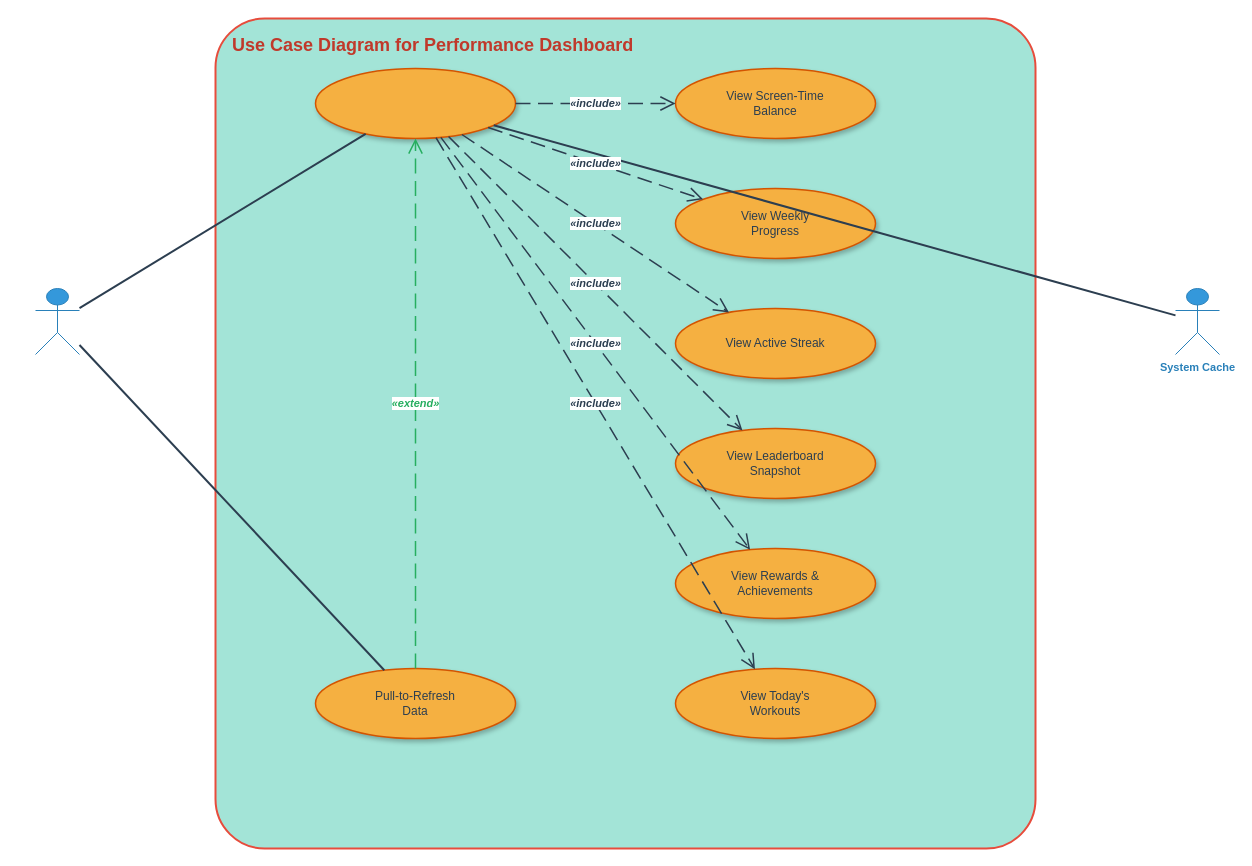
This 1252x866 diagram has some shape labels left out. Each missing label, with the centre of its shape:
"Authenticated User" belongs at point 57,321.
"View Dashboard" belongs at point 416,104.
